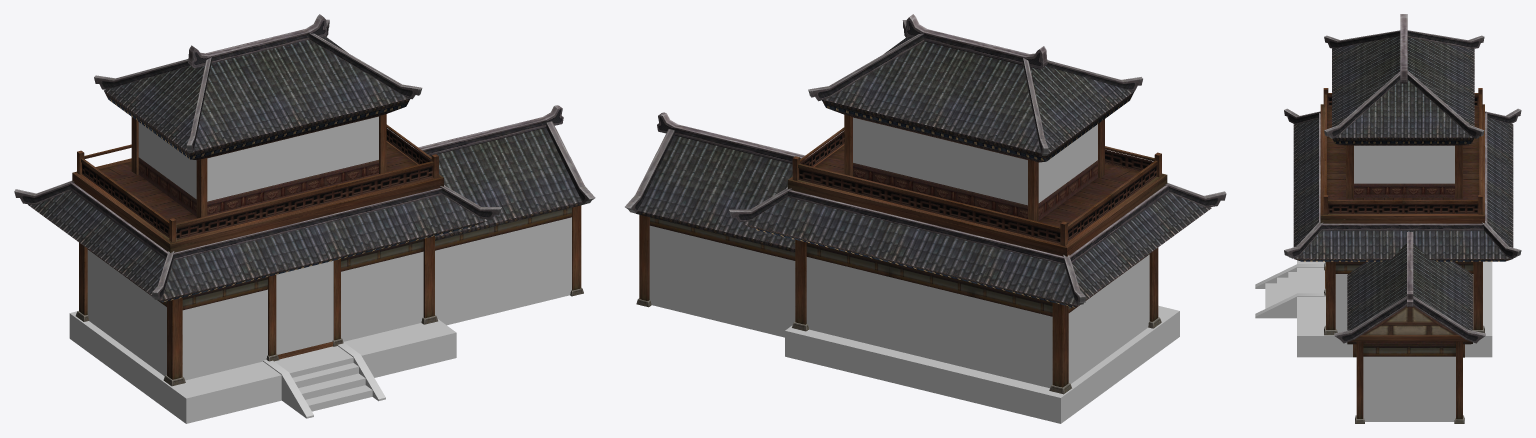
File: s7_unioncity_jianzhu_bieshu_02.FBX
3 views of the same model, side by side, from view 1: azimuth 30°, elevation 25°; view 2: azimuth 150°, elevation 25°; view 3: azimuth 270°, elevation 25° (orthographic). The views are drawn at different scales.
Visible parts, largest first — view 1: s7_unioncity_jianzhu_bieshu_02, Object01vvvv, s7_unioncity_jianzhu_bieshu_02_zhuzi; view 2: s7_unioncity_jianzhu_bieshu_02, Object01vvvv, s7_unioncity_jianzhu_bieshu_02_zhuzi; view 3: Object01vvvv, s7_unioncity_jianzhu_bieshu_02_zhuzi, s7_unioncity_jianzhu_bieshu_02.
Part boxes in pixels (x1,y1,x2,y2): s7_unioncity_jianzhu_bieshu_02: (69,116,571,423); Object01vvvv: (28,37,583,302); s7_unioncity_jianzhu_bieshu_02_zhuzi: (14,14,595,386); s7_unioncity_jianzhu_bieshu_02: (649,117,1179,423); Object01vvvv: (636,38,1211,307); s7_unioncity_jianzhu_bieshu_02_zhuzi: (625,14,1226,394); Object01vvvv: (1293,36,1513,330); s7_unioncity_jianzhu_bieshu_02_zhuzi: (1284,14,1521,423); s7_unioncity_jianzhu_bieshu_02: (1255,145,1492,421).
Size of the model in its own units: 196 by 121 by 111.
